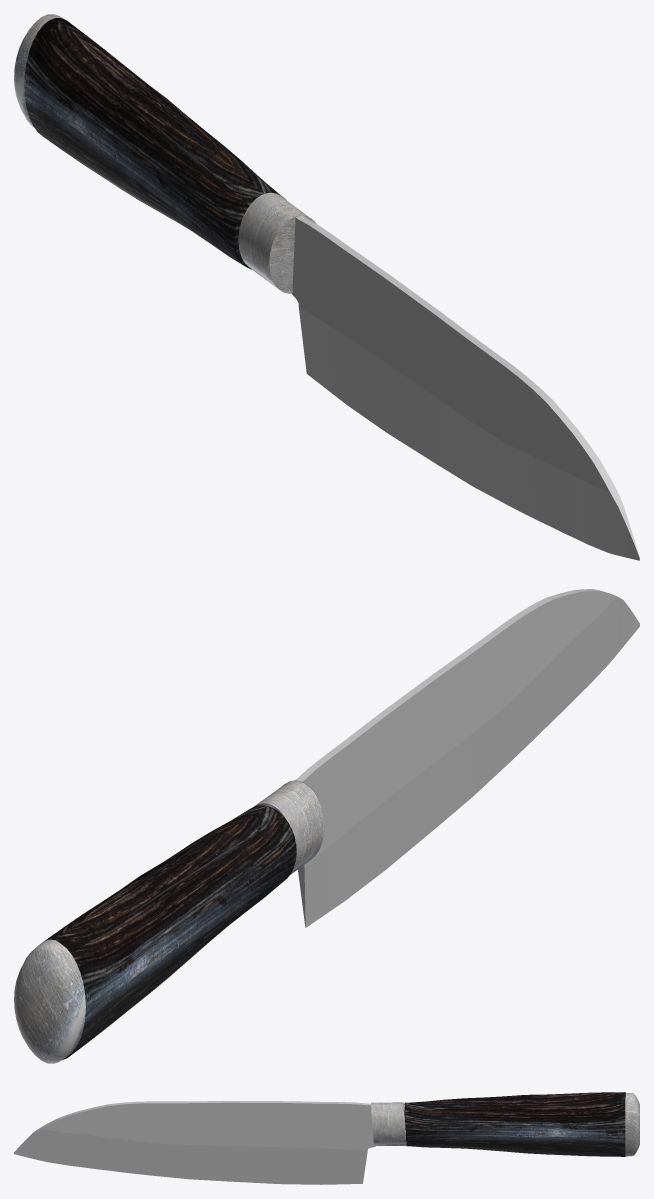
Rendered from knife.obj.
3 renders of one model, top to bottom at view 1: azimuth 30°, elevation 25°; view 2: azimuth 150°, elevation 25°; view 3: azimuth 270°, elevation 25°, orthographic. The views are drawn at different scales.
Parts seen in each view (by area): view 1: Cube, Circle.009, Circle_Circle.018, Circle.002_Circle.020, Circle.001_Circle.019; view 2: Cube, Circle.009, Circle.001_Circle.019, Circle_Circle.018; view 3: Cube, Circle.009, Circle_Circle.018, Circle.001_Circle.019.
Part boxes in pixels (bbox=[...]): Cube: bbox=[291, 215, 639, 560]; Circle.009: bbox=[24, 18, 285, 269]; Circle_Circle.018: bbox=[238, 192, 308, 293]; Circle.002_Circle.020: bbox=[269, 215, 315, 293]; Circle.001_Circle.019: bbox=[14, 14, 69, 128]; Cube: bbox=[293, 589, 639, 927]; Circle.009: bbox=[45, 805, 296, 1059]; Circle.001_Circle.019: bbox=[14, 939, 85, 1063]; Circle_Circle.018: bbox=[253, 781, 324, 874]; Cube: bbox=[14, 1101, 375, 1184]; Circle.009: bbox=[404, 1092, 625, 1156]; Circle_Circle.018: bbox=[371, 1102, 406, 1145]; Circle.001_Circle.019: bbox=[625, 1093, 639, 1156].
Bounding box in the file's own units: 0.7534 × 2.05 × 12.72.
